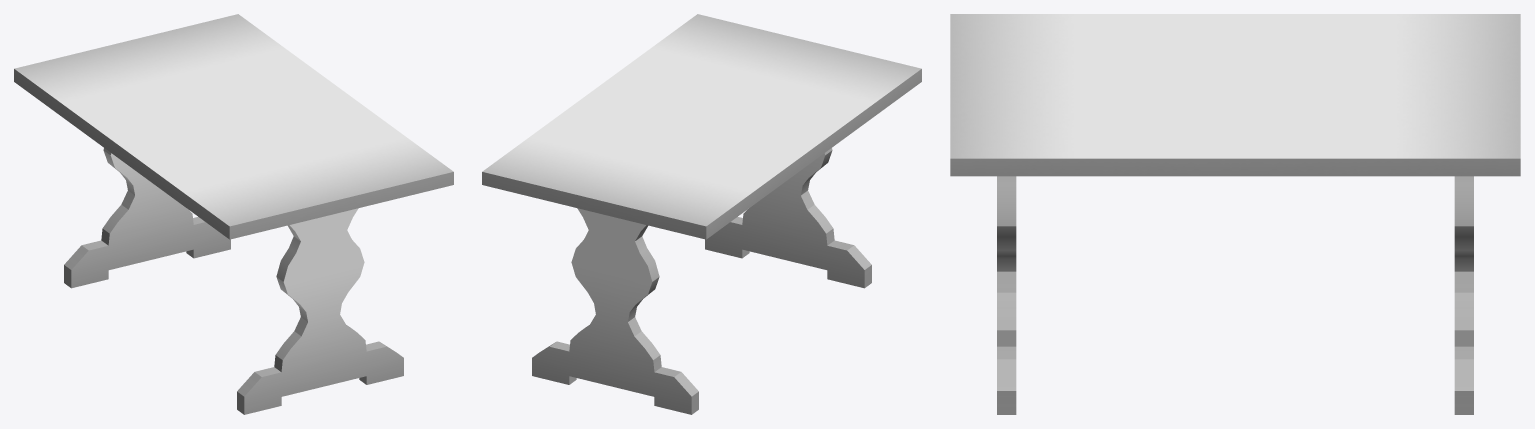
File: BreakfastTable.fbx
3 renders of one model, left to right at view 1: azimuth 30°, elevation 25°; view 2: azimuth 150°, elevation 25°; view 3: azimuth 270°, elevation 25°, orthographic. The views are drawn at different scales.
Visible parts, largest first — view 1: Table; view 2: Table; view 3: Table.
Part boxes in pixels (left/top/right/bottom): Table: left=14, top=14, right=453, bottom=414; Table: left=482, top=14, right=921, bottom=414; Table: left=950, top=14, right=1520, bottom=414.
Size of the model in its own units: 2.07 by 1.85 by 3.45.
